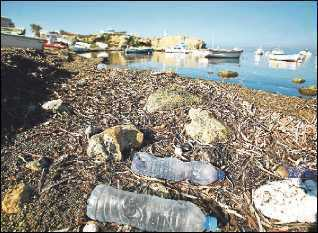litter: (86, 184, 218, 231), (132, 151, 224, 184)
